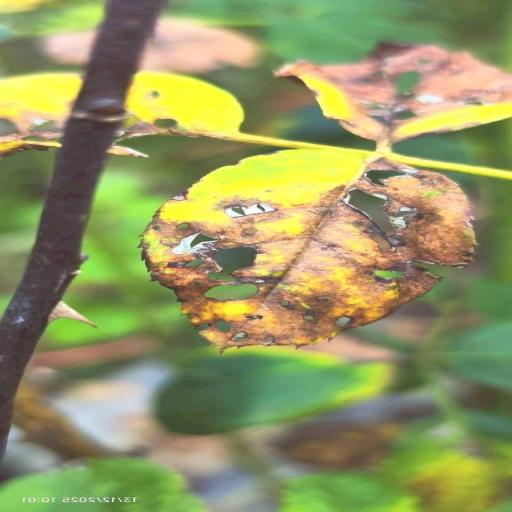thrip: (141, 150, 473, 348), (276, 43, 511, 145)
